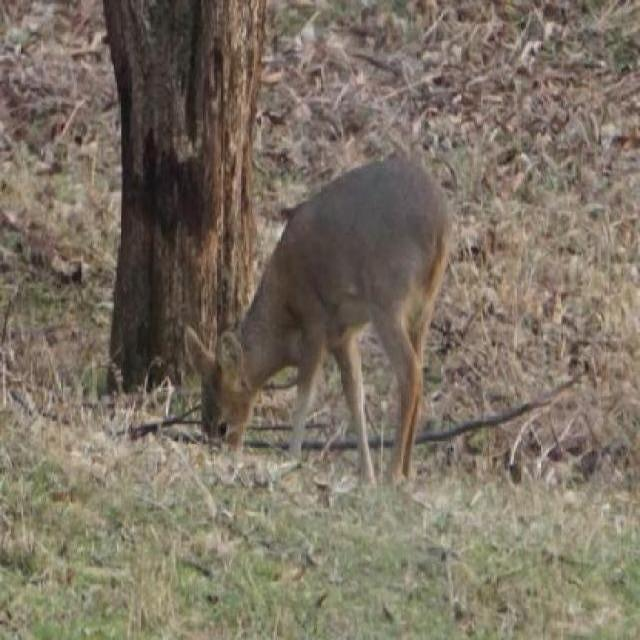deer: (186, 153, 452, 495)
